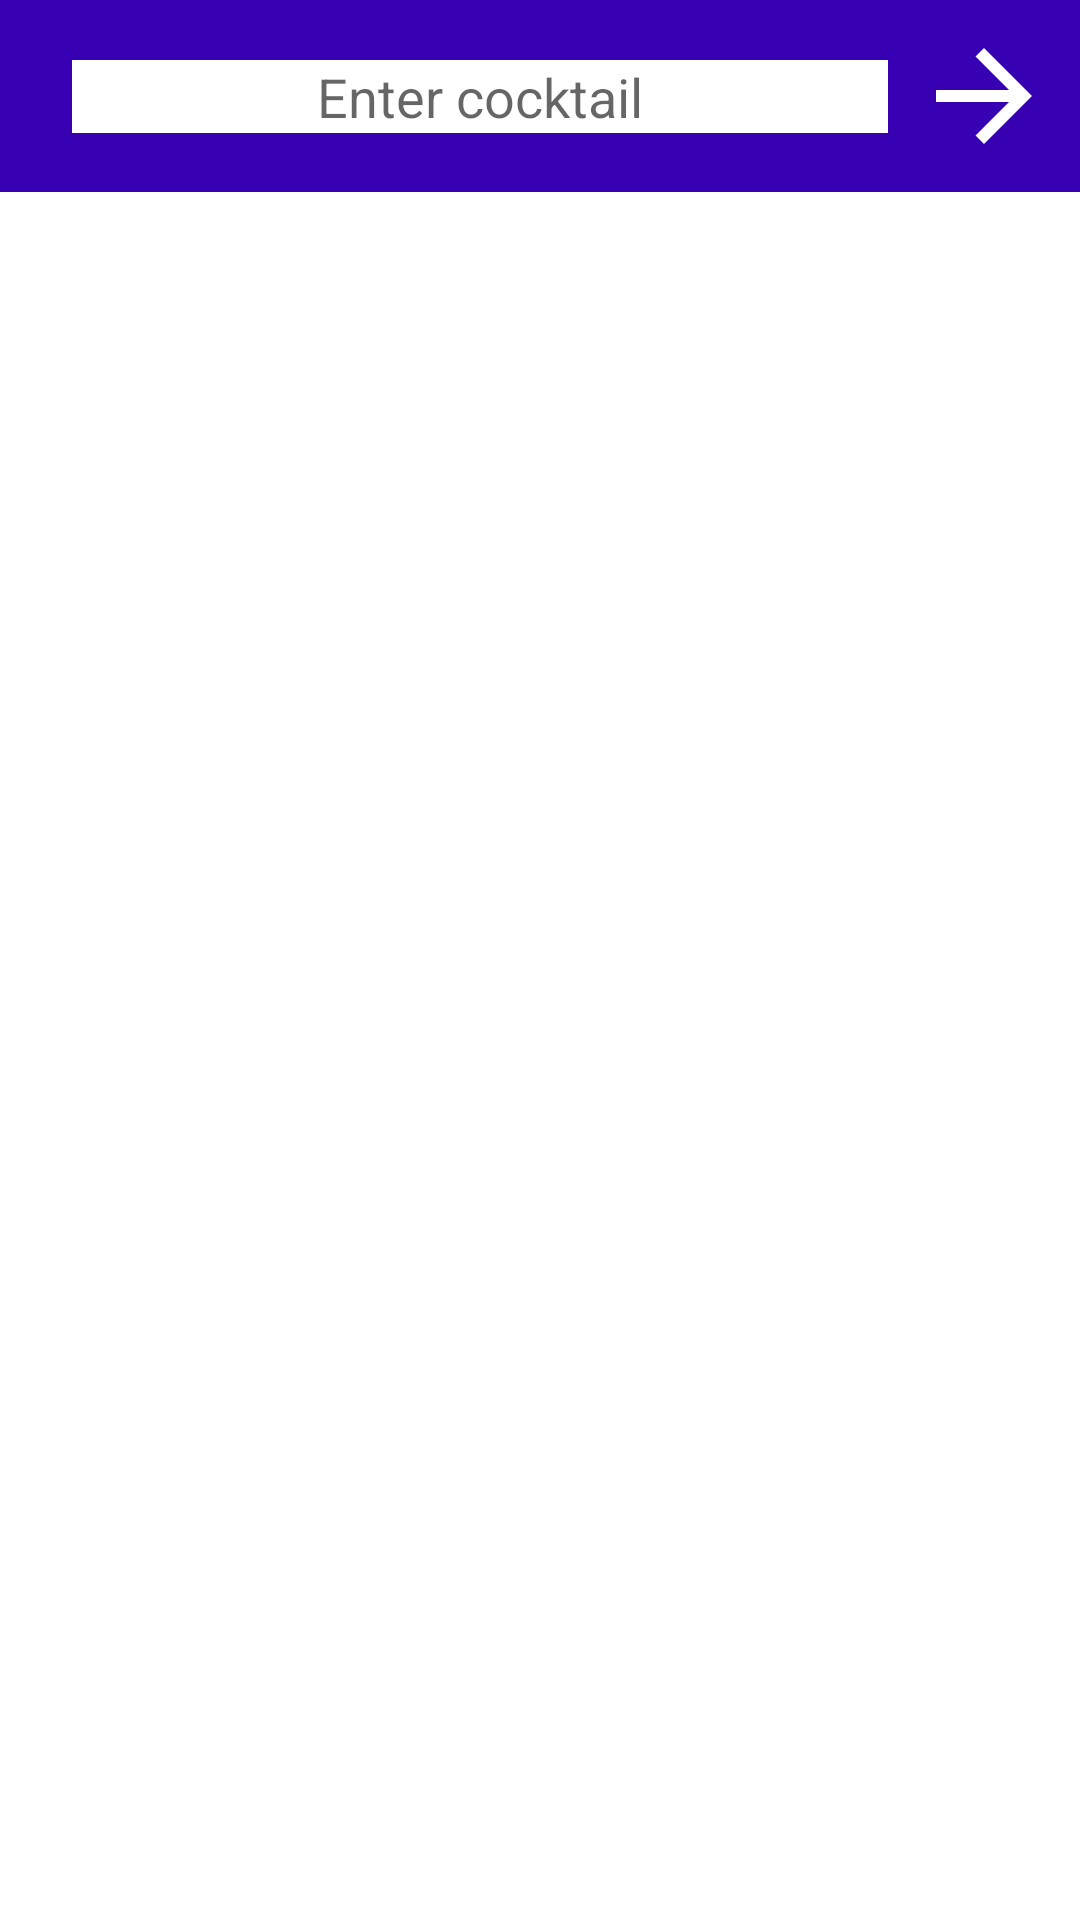

Where icons sit on this 1080 × 1920 app screen, as [x1,y1,x2,y2]:
arrow forward: [936,48,1032,144]
